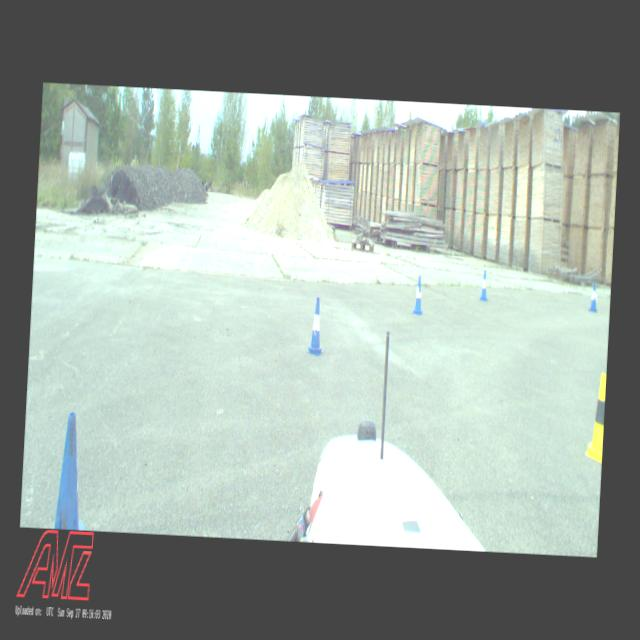blue_cone: (54, 412, 92, 530), (306, 296, 326, 356), (412, 274, 424, 314), (588, 282, 598, 312), (479, 270, 488, 301)
yellow_cone: (585, 373, 606, 463)
